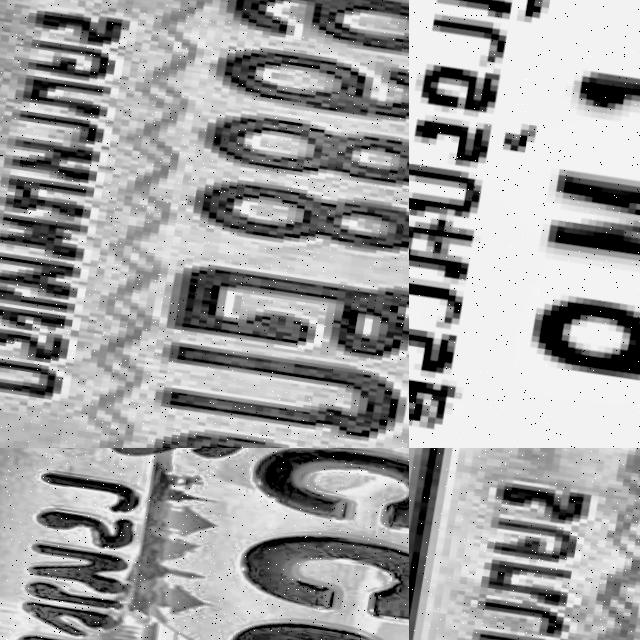license-plate: (0, 0, 409, 448), (409, 0, 640, 448), (0, 448, 409, 640), (409, 448, 640, 640)
